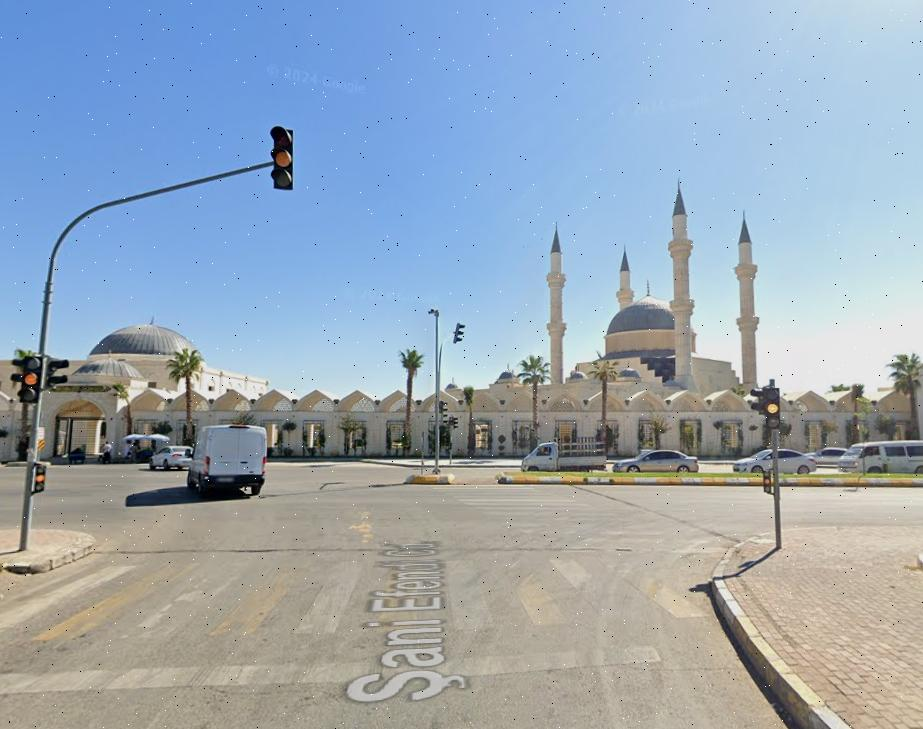yellowlight: (268, 125, 297, 191), (21, 355, 41, 403), (765, 386, 778, 436), (34, 461, 45, 491)
